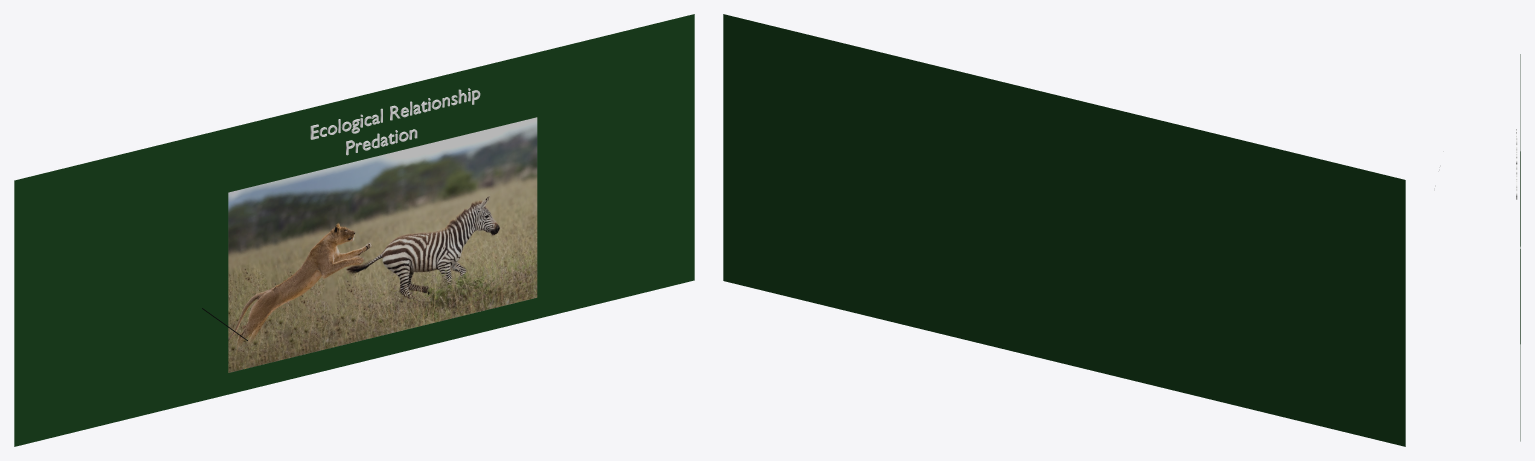
The model's file is predation.gltf.
3 views of the same model, side by side, from view 1: azimuth 30°, elevation 25°; view 2: azimuth 150°, elevation 25°; view 3: azimuth 270°, elevation 25° (orthographic). The views are drawn at different scales.
Parts seen in each view (by area): view 1: Plane.013, Plane, Text.008; view 2: Plane.013; view 3: Plane.013, Text.008.
Part boxes in pixels (x1,y1,x2,y2): Plane.013: [14, 14, 694, 446]; Plane: [228, 117, 537, 372]; Text.008: [310, 88, 480, 139]; Plane.013: [723, 14, 1405, 446]; Plane.013: [1520, 54, 1520, 441]; Text.008: [1516, 129, 1517, 199].
Size of the model in its own units: 15.94 by 5.96 by 2.43.
Materials: 5 (1 with a texture image).
